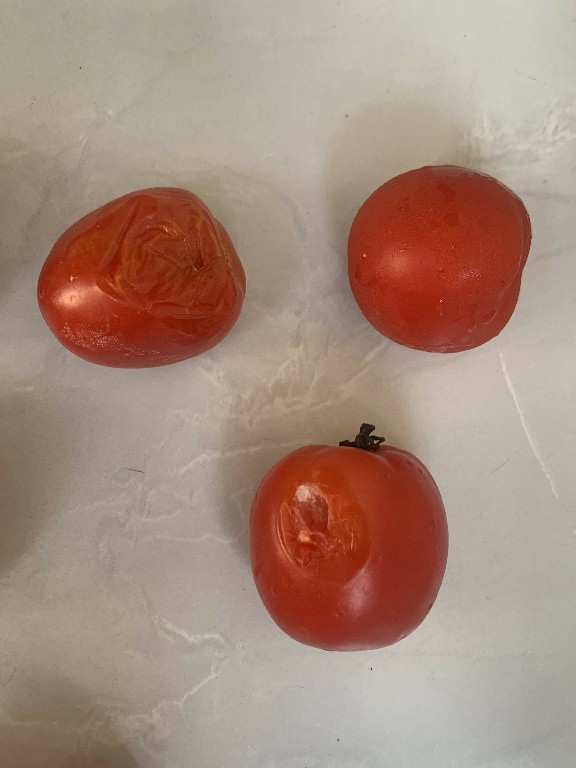NG: (233, 410, 461, 669), (20, 171, 251, 378)
OK: (328, 144, 542, 361)
